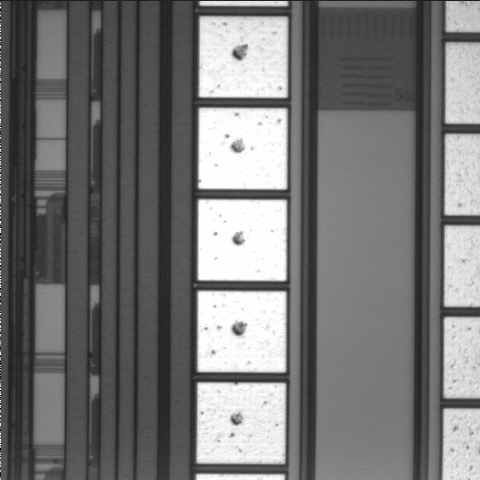pad: (199, 16, 288, 98), (198, 199, 287, 281), (198, 108, 287, 189), (197, 383, 286, 464), (198, 291, 286, 372)
